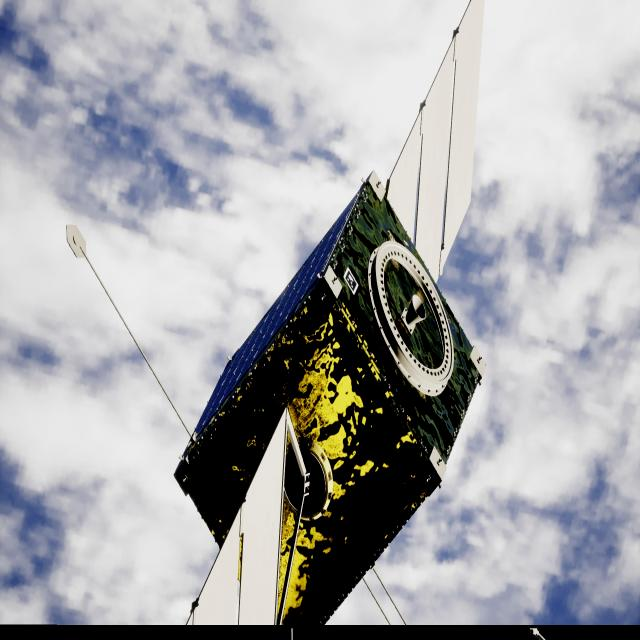satellite: (175, 0, 484, 626)
